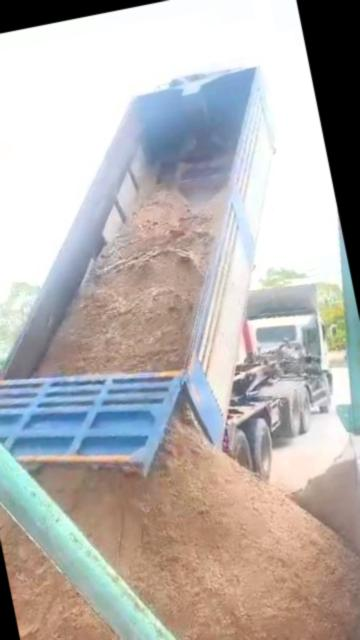sand: (37, 424, 360, 640), (39, 189, 224, 376), (0, 508, 177, 640), (293, 445, 360, 559)
